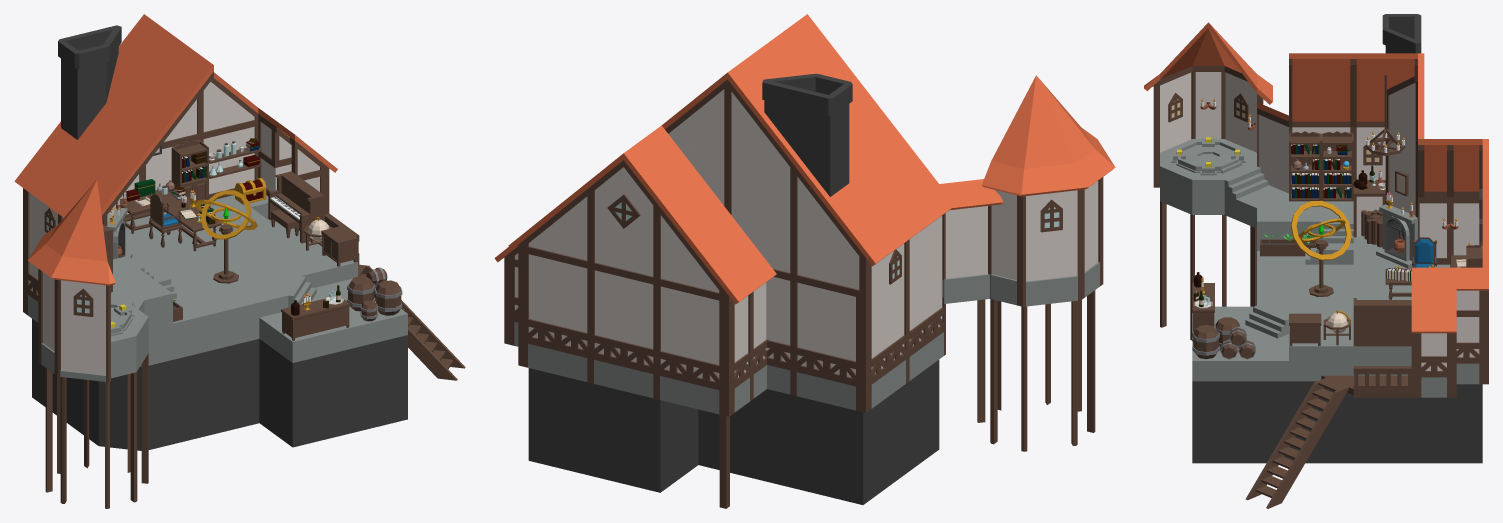
Rendered from sorcerer_room_scene_compose.fbx.
3 views of the same model, side by side, from view 1: azimuth 30°, elevation 25°; view 2: azimuth 150°, elevation 25°; view 3: azimuth 270°, elevation 25° (orthographic). The views are drawn at different scales.
Visible parts, largest first — view 1: _RoofwLog_1x2x1_proxy, Base_1x1x0.8_proxy, Base_1x1x0.8_proxy.002, _WallOctwRoof_1.5x1.5x3.5_proxy.001, _sr_Chimney_1x2x4_proxy, StoneFloor_1x1x0.2_proxy.003, _WallwoRoof_0.2x2x3.5_proxy, StoneFloor_1x1x0.2_proxy.005, Piano_2x1x2_proxy, Base_1x1x0.8_proxy.001, _WallwRoof_0.2x2x4.5_proxy, StoneFloor_1x1x0.2_proxy.006 (+39 smaller); view 2: Base_1x1x0.8_proxy.001, _WallwoRoof_0.2x2x3.5_proxy, Base_1x1x0.8_proxy, _sr_WallTurnOct_2x3x5.4_proxy, _RoofwLog_1x2x1_proxy, _sr_Chimney_1x2x4_proxy, _WallOctwRoof_1.5x1.5x3.5_proxy, Roof_1x1x1.2_proxy, _WallRoof03_4x0.2x2.6_proxy, _WallRoof02_4x0.2x2.6_proxy, _WallwoRoof_0.2x2x3.5_proxy.001, _WallwRoof_0.2x2x4.5_proxy (+34 smaller); view 3: Base_1x1x0.8_proxy, _RoofwLog_1x2x1_proxy, _sr_FirePlaceWall_3x2x6.5_proxy, LadderTri_1.5x1.5x0.5_proxy, _sr_WallTurnOct_2x3x5.4_proxy, _WallOctwRoof_1.5x1.5x3.5_proxy.001, Piano_2x1x2_proxy, _sr_WallTurnwTri2.5-3.5_1x1x4_proxy, Roof_1x1x1.2_proxy, StoneFloor_1x1x0.2_proxy.003, StoneSlab_1x1x0.5_proxy.006, _WallwRoof_0.2x1x3.5_proxy.001 (+54 smaller).
Part boxes in pixels (x1=…): _RoofwLog_1x2x1_proxy: x1=32, y1=16, x2=213, y2=220; Base_1x1x0.8_proxy: x1=259, y1=335, x2=407, y2=447; Base_1x1x0.8_proxy.002: x1=148, y1=339, x2=259, y2=449; _WallOctwRoof_1.5x1.5x3.5_proxy.001: x1=48, y1=256, x2=115, y2=382; _sr_Chimney_1x2x4_proxy: x1=58, y1=25, x2=121, y2=139; StoneFloor_1x1x0.2_proxy.003: x1=130, y1=219, x2=301, y2=276; _WallwoRoof_0.2x2x3.5_proxy: x1=120, y1=120, x2=258, y2=214; StoneFloor_1x1x0.2_proxy.005: x1=173, y1=255, x2=357, y2=305; Piano_2x1x2_proxy: x1=268, y1=171, x2=324, y2=243; Base_1x1x0.8_proxy.001: x1=32, y1=319, x2=98, y2=445; _WallwRoof_0.2x2x4.5_proxy: x1=18, y1=165, x2=65, y2=322; StoneFloor_1x1x0.2_proxy.006: x1=173, y1=283, x2=288, y2=329; Base_1x1x0.8_proxy.001: x1=698, y1=360, x2=939, y2=504; _WallwoRoof_0.2x2x3.5_proxy: x1=524, y1=246, x2=722, y2=414; Base_1x1x0.8_proxy: x1=528, y1=368, x2=698, y2=492; _sr_WallTurnOct_2x3x5.4_proxy: x1=901, y1=161, x2=1023, y2=381; _RoofwLog_1x2x1_proxy: x1=731, y1=14, x2=938, y2=239; _sr_Chimney_1x2x4_proxy: x1=762, y1=73, x2=852, y2=196; _WallOctwRoof_1.5x1.5x3.5_proxy: x1=1015, y1=163, x2=1092, y2=306; Roof_1x1x1.2_proxy: x1=627, y1=125, x2=760, y2=277; _WallRoof03_4x0.2x2.6_proxy: x1=662, y1=70, x2=796, y2=170; _WallRoof02_4x0.2x2.6_proxy: x1=557, y1=150, x2=692, y2=251; _WallwoRoof_0.2x2x3.5_proxy.001: x1=793, y1=275, x2=859, y2=411; _WallwRoof_0.2x2x4.5_proxy: x1=863, y1=212, x2=917, y2=409; Base_1x1x0.8_proxy: x1=1192, y1=381, x2=1482, y2=463; _RoofwLog_1x2x1_proxy: x1=1289, y1=53, x2=1417, y2=127; _sr_FirePlaceWall_3x2x6.5_proxy: x1=1353, y1=76, x2=1419, y2=238; LadderTri_1.5x1.5x0.5_proxy: x1=1245, y1=377, x2=1348, y2=508; _sr_WallTurnOct_2x3x5.4_proxy: x1=1257, y1=74, x2=1353, y2=193; _WallOctwRoof_1.5x1.5x3.5_proxy.001: x1=1144, y1=66, x2=1192, y2=187; Piano_2x1x2_proxy: x1=1353, y1=298, x2=1411, y2=346; _sr_WallTurnwTri2.5-3.5_1x1x4_proxy: x1=1450, y1=267, x2=1482, y2=384; Roof_1x1x1.2_proxy: x1=1424, y1=139, x2=1482, y2=191; StoneFloor_1x1x0.2_proxy.003: x1=1353, y1=236, x2=1411, y2=352; StoneSlab_1x1x0.5_proxy.006: x1=1289, y1=352, x2=1411, y2=381; _WallwRoof_0.2x1x3.5_proxy.001: x1=1192, y1=66, x2=1224, y2=138.
Bounding box in the file's own units: 1585 × 1170 × 1070.
